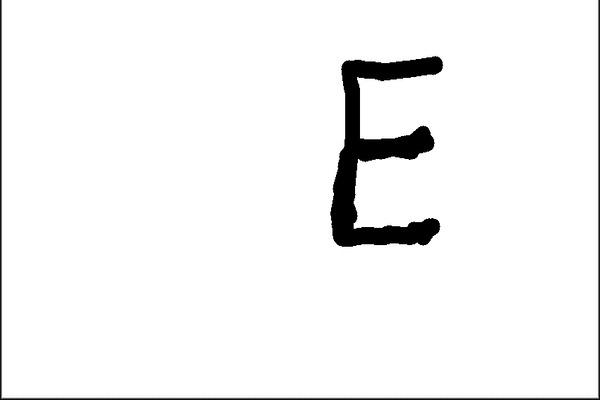E: (324, 50, 453, 251)
